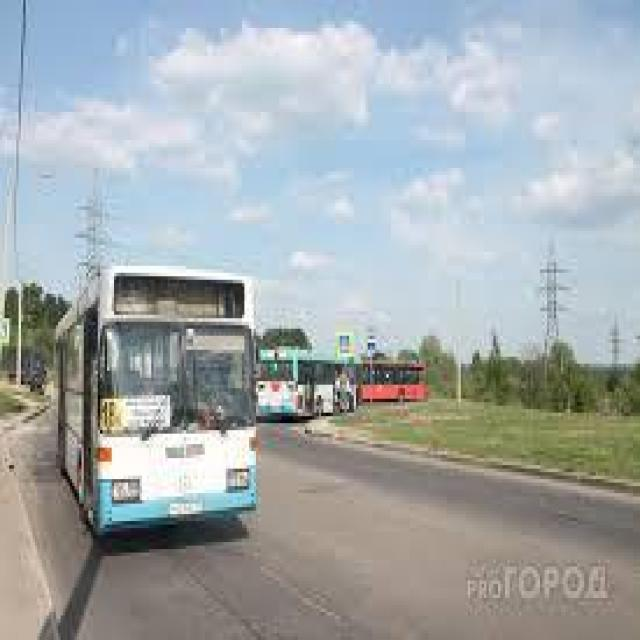bus: (48, 256, 262, 540), (257, 347, 362, 421), (360, 358, 430, 410)
